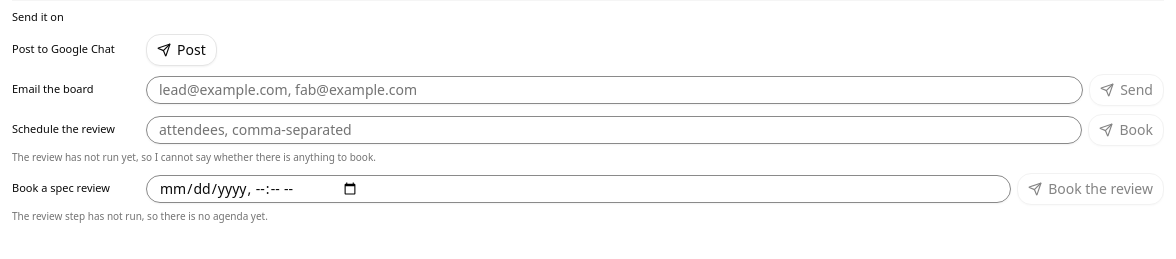
it: DeliverPanel › sends exactly the addresses typed, and refuses to send a bad one
The width and height of the screenshot is (1176, 259).
Expected: the button with test id "deliver-chat" is enabled, [146,34,217,66]
Expected: the button with test id "deliver-email" is disabled, [1089,74,1164,106]
In the field with test id "deliver-email-to": (615, 90) [146,76,1083,104], type "lead@example.com, nope"
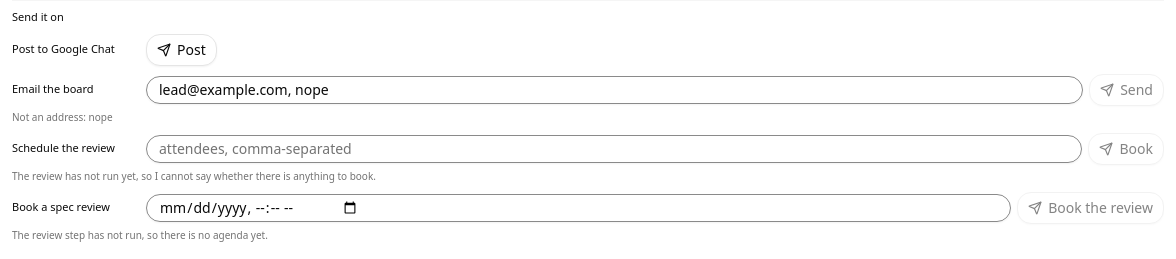
Expected: the button with test id "deliver-email" is disabled, [1089,74,1164,106]
Expected: the text "Not an address: nope" is shown, [12,110,113,124]
Replace the text in the field with test id "deliver-email-to" with " lead@example.com , ": (615, 90) [146,76,1083,104]
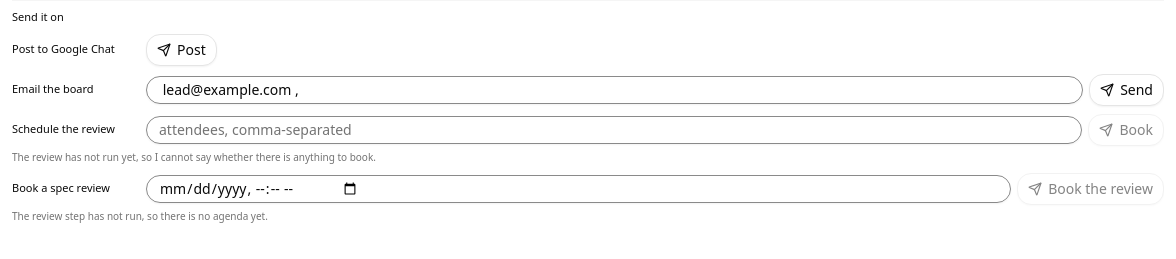
Click the button with test id "deliver-email": (1127, 90) [1089,74,1164,106]
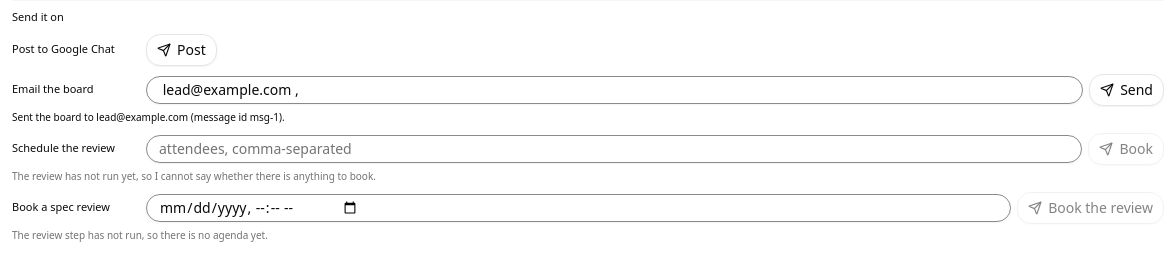
Expected: the text with test id "deliver-result" reads "Sent the board to lead@example.com (message id msg-1).", [12,110,285,124]
